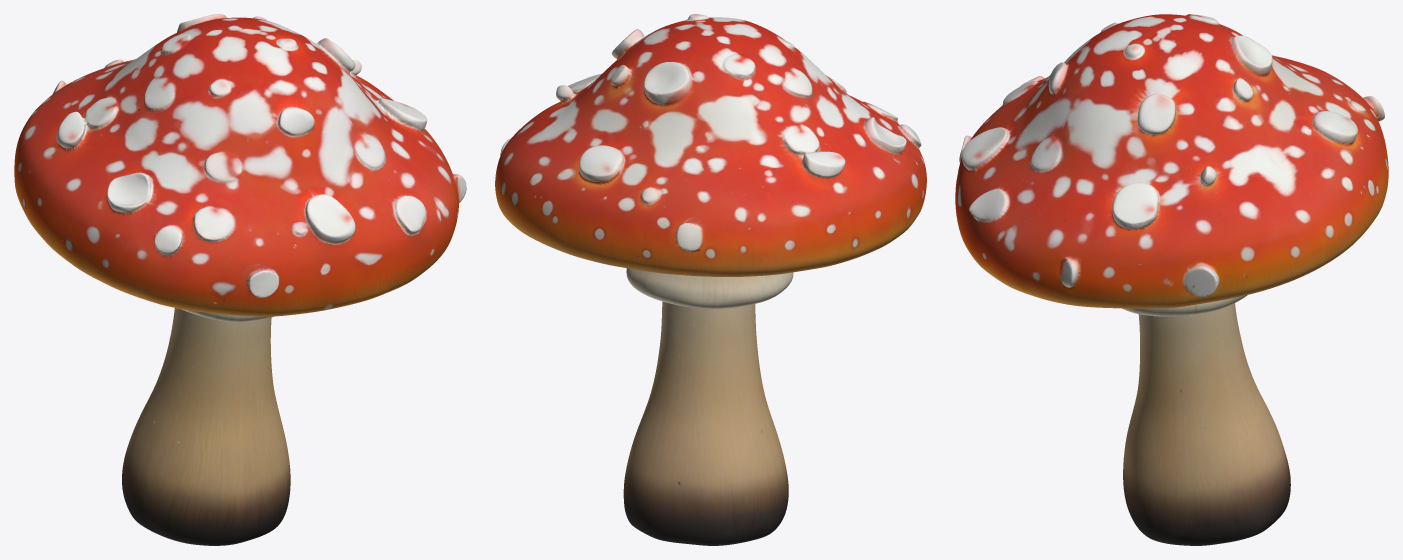
The model's file is Stage_2_MushroomGrowthAnimation.glb.
The picture shows the model from 3 angles, left to right: view 1: azimuth 30°, elevation 25°; view 2: azimuth 150°, elevation 25°; view 3: azimuth 270°, elevation 25°; orthographic projection. The views are drawn at different scales.
Parts seen in each view (by area): view 1: Mesh_0.Mushroom_stage3; view 2: Mesh_0.Mushroom_stage3; view 3: Mesh_0.Mushroom_stage3.
Part boxes in pixels (left/top/right/bottom): Mesh_0.Mushroom_stage3: left=14, top=14, right=466, bottom=545; Mesh_0.Mushroom_stage3: left=495, top=14, right=926, bottom=545; Mesh_0.Mushroom_stage3: left=955, top=14, right=1388, bottom=545.
Size of the model in its own units: 0.0162 by 0.0201 by 0.0158.
1 material, 1 textured.
